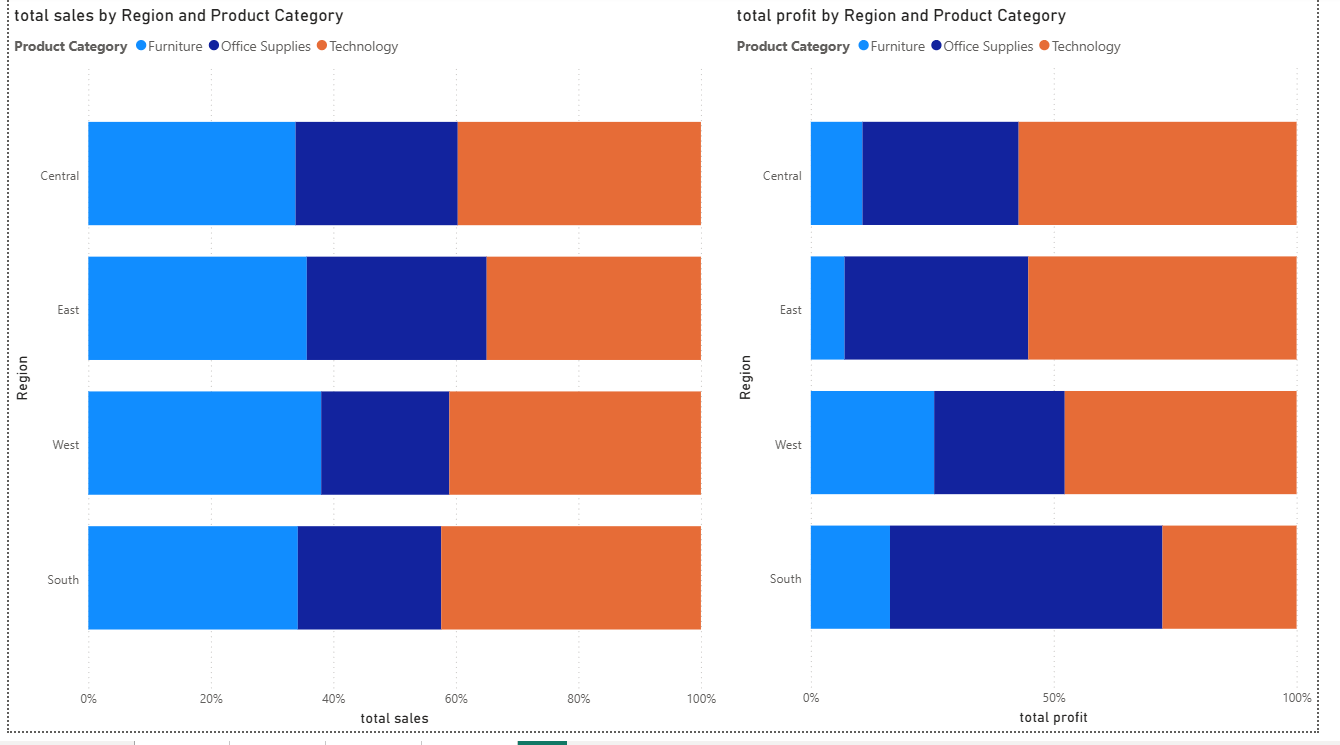

Layout of this report page (visuals, bound fields, positions):
{"tool":"powerbi","page":{"name":"Page 3","canvas":[1280,720],"ordinal":2},"visuals":[{"type":"hundredPercentStackedBarChart","fields":{"Y":["Date.total sales"],"Category":["Orders.Region"],"Series":["Orders.Product Category"]},"box":[0,9.6,697.1,710.8],"z":0},{"type":"hundredPercentStackedBarChart","fields":{"Y":["Date.total profit"],"Category":["Orders.Region"],"Series":["Orders.Product Category"]},"box":[707,10,573,710],"z":1000}]}

Visuals, with their boxes in screenshot pixels (x1, y1, x2, y2), scaled from the page's 1280x720 canvas onto the 1340x745 screenshot:
hundredPercentStackedBarChart - Date.total sales x Orders.Region: x1=0, y1=10, x2=730, y2=744
hundredPercentStackedBarChart - Date.total profit x Orders.Region: x1=740, y1=10, x2=1339, y2=744
